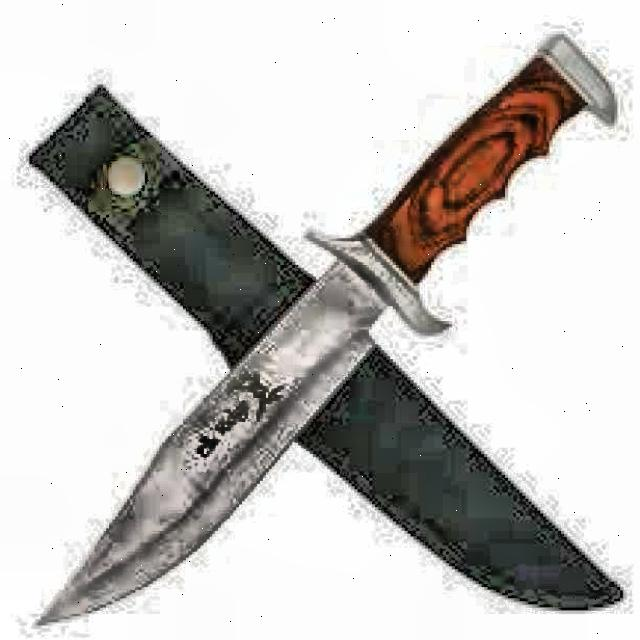knife: (30, 25, 621, 639)
